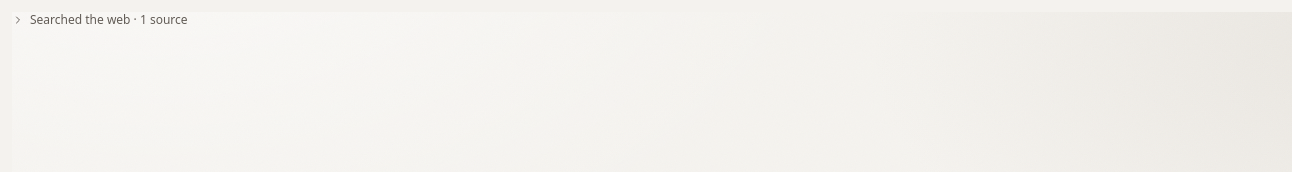
Test case: ActivityLine › is collapsed by default and remembers when opened
This screenshot has width=1292, height=172.
Click the button "Searched the web · 1 source" at (100,20), box [12, 12, 188, 28]
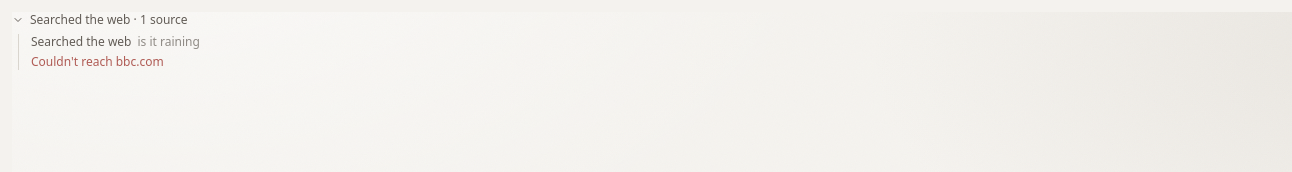
expect the button "Searched the web · 1 source" is expanded: met
expect the list items read "Searched the webis it raining", "Couldn't reach bbc.com", in this order: met, box [31, 33, 200, 50]; [31, 53, 164, 70]
Click the button "Searched the web · 1 source" at (100,20), box [12, 12, 188, 28]
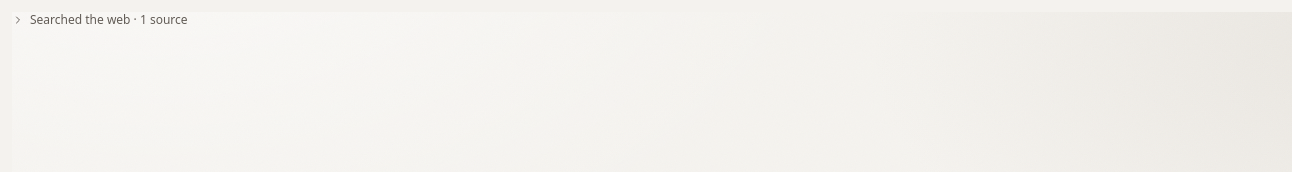
expect the list is gone: met
